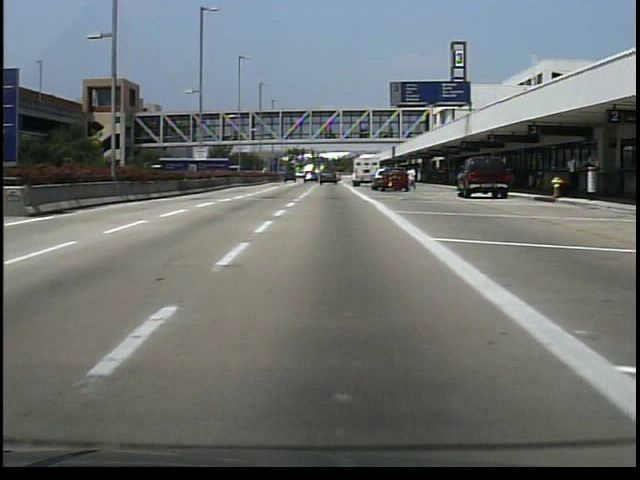person: (561, 153, 584, 200), (405, 169, 419, 191)
